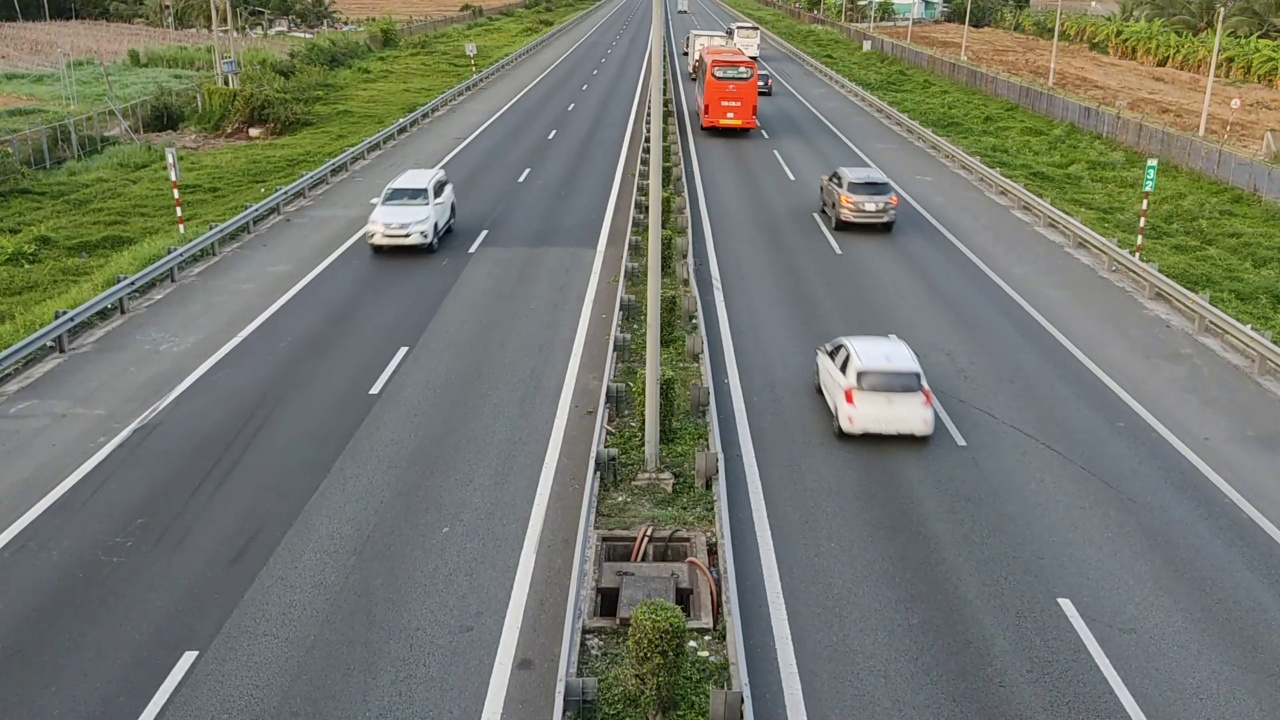bus: (695, 47, 759, 130)
car: (814, 333, 936, 439), (365, 167, 457, 253), (819, 165, 901, 231)
